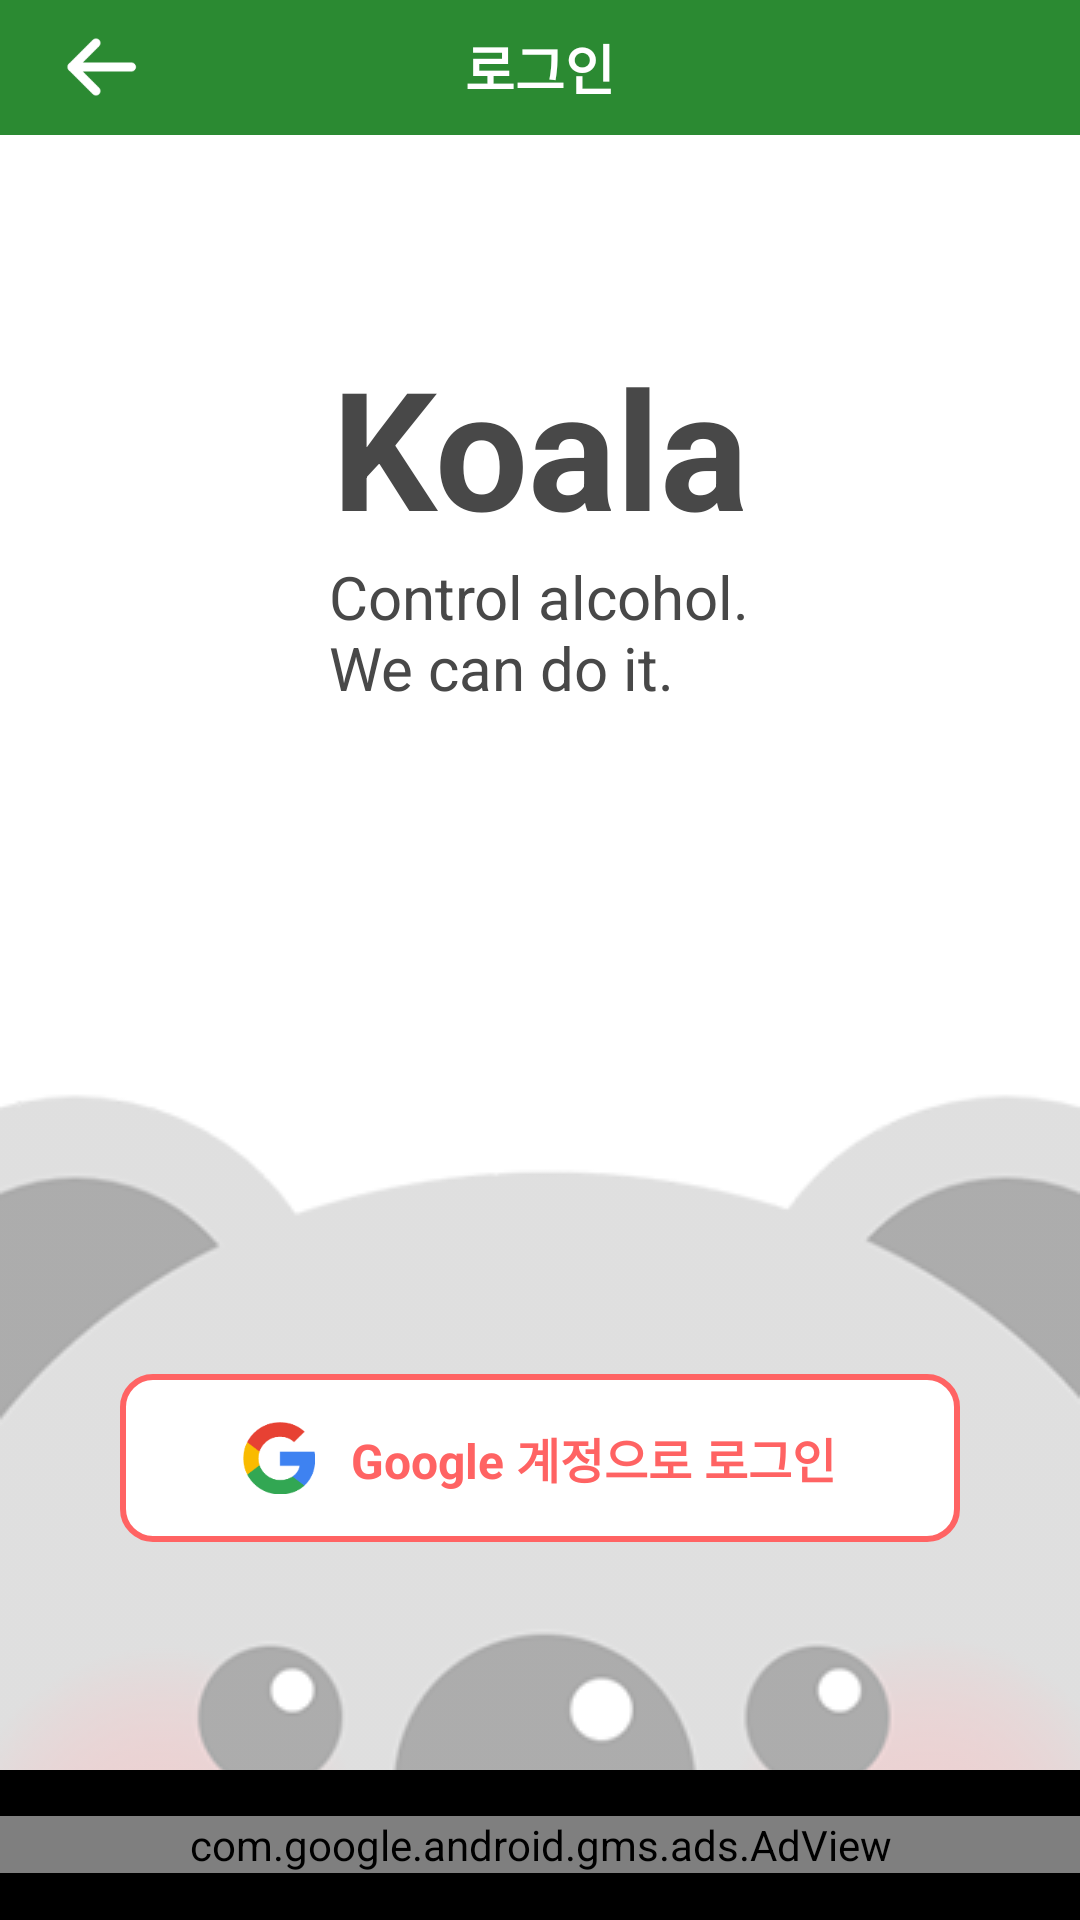

Locate icon controls on the screen. Image size 1080 × 1920, boxes as (x1, y1, x2, y2).
back: (67, 38, 136, 96)
